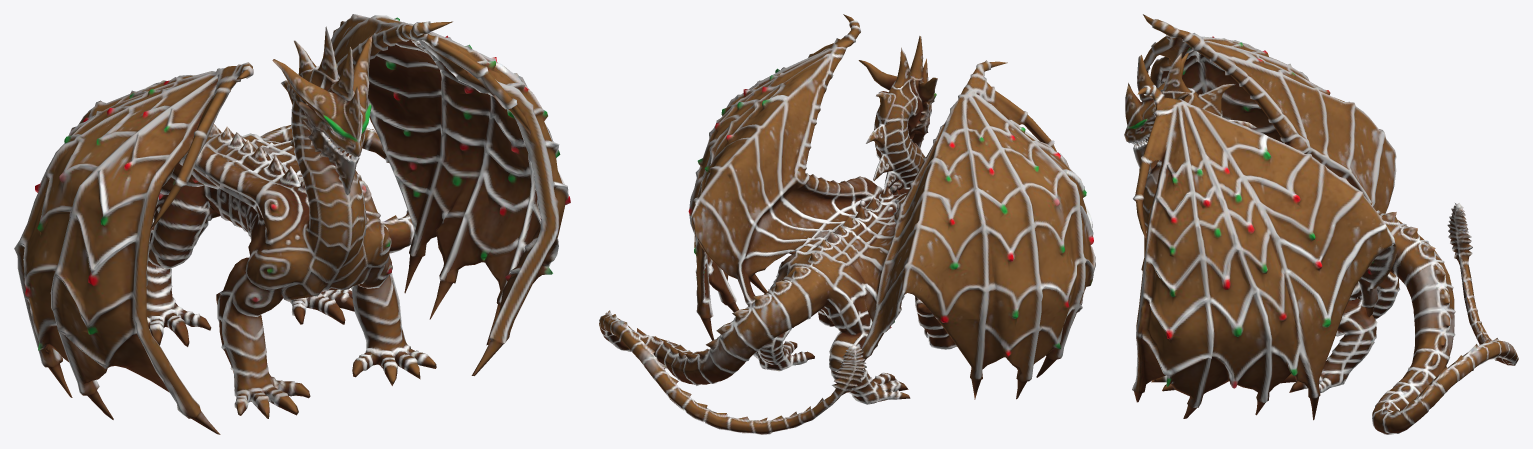
The model's file is gingerbread_dragon_2k.glb.
The picture shows the model from 3 angles, left to right: view 1: azimuth 30°, elevation 25°; view 2: azimuth 150°, elevation 25°; view 3: azimuth 270°, elevation 25°; orthographic projection. The views are drawn at different scales.
Visible parts, largest first — view 1: Head Base Sphere.002; view 2: Head Base Sphere.002; view 3: Head Base Sphere.002.
Boxes of the visible parts, x1,y1,x2,y2 form: Head Base Sphere.002: (14,14,570,434); Head Base Sphere.002: (599,14,1095,434); Head Base Sphere.002: (1124,14,1518,434).
Bounding box in the file's own units: 220 × 154 × 181.
Materials: 1 (1 with a texture image).
